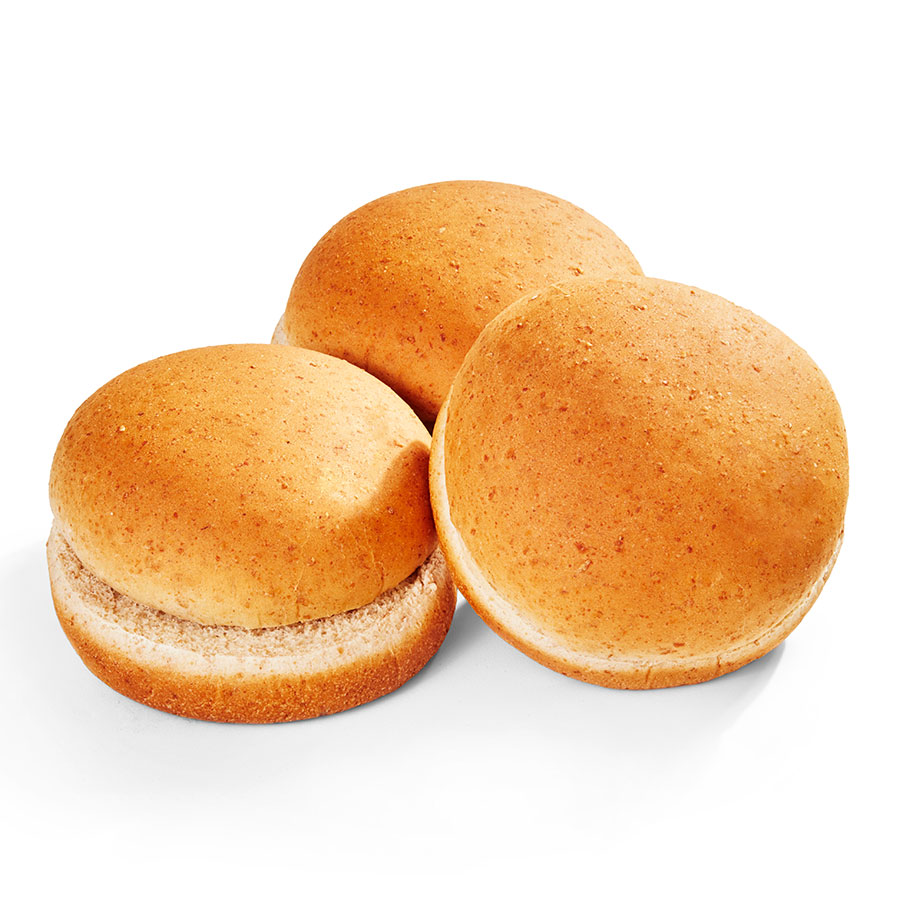hamburger_buns: (430, 270, 838, 708), (48, 338, 475, 740), (245, 177, 660, 481)
